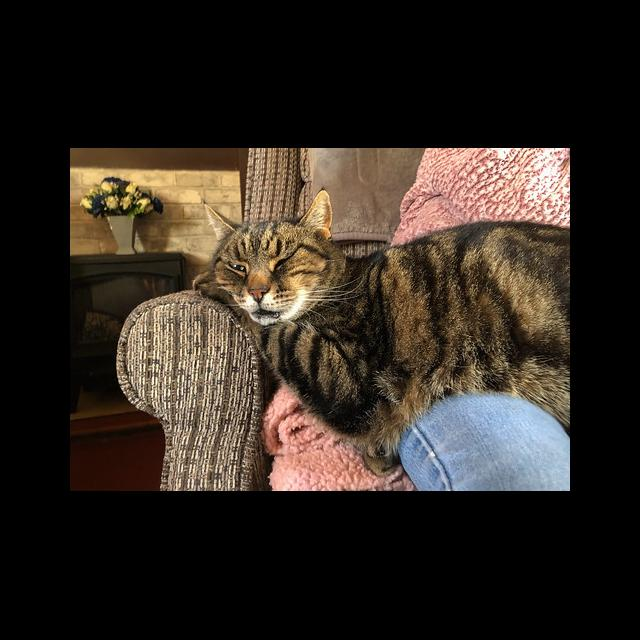animals: (193, 190, 561, 475)
